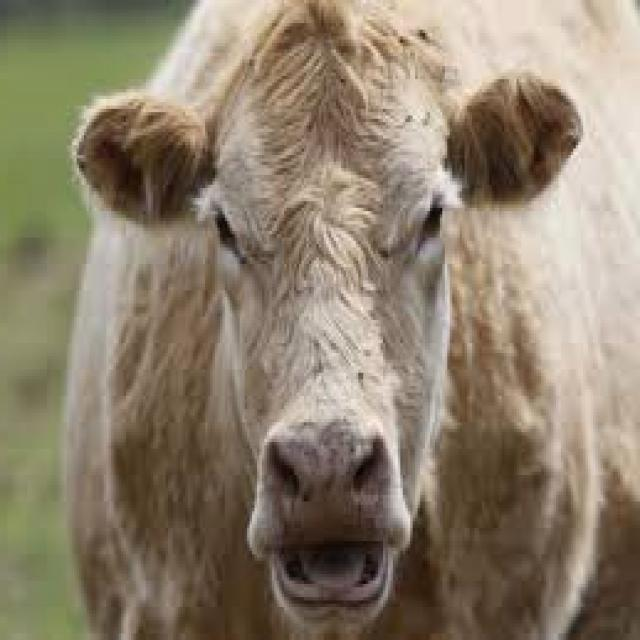cow: (64, 0, 640, 637)
